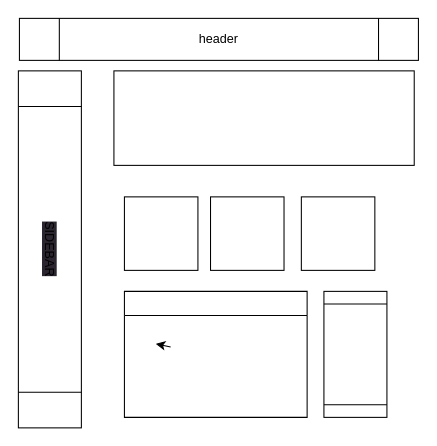
Some shapes in this 437 by 446 pixel diagram are drawn without their labels. Here are the shapes that lost their labels. From the top down, the centre of each, then its label:
(263,117): MONTHLY VISITOR CHART
(215,353): Vertical Container
